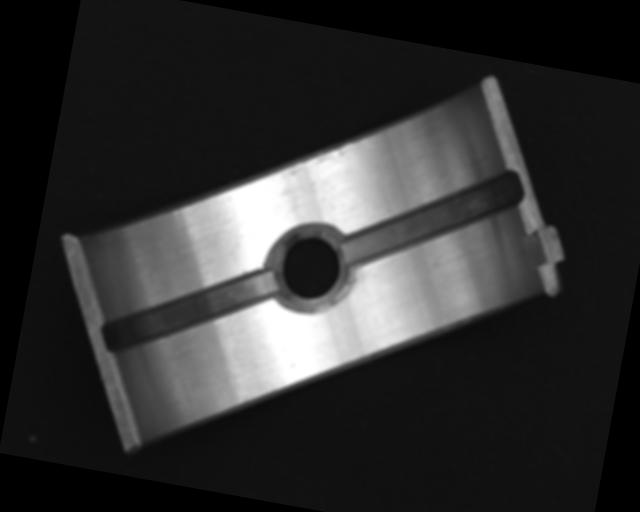gap: (341, 139, 526, 293), (100, 244, 280, 379)
hole: (268, 223, 350, 320)
